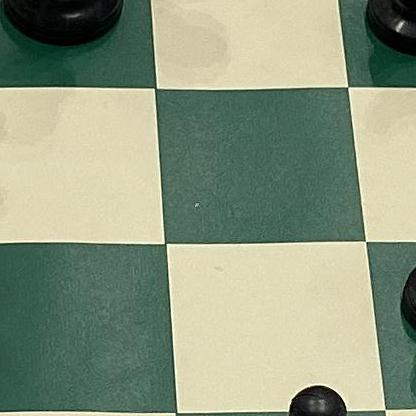black-pawn: (239, 365, 369, 416), (390, 180, 416, 354)
black-queen: (0, 0, 135, 58)
